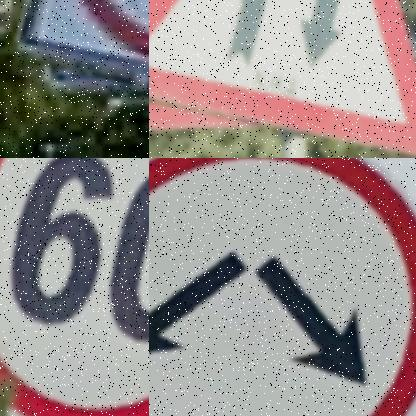No left turn: (26, 0, 149, 116)
Road Divides: (149, 158, 416, 416)
Speed Limit -60 kmph-: (0, 158, 149, 416)
U-Turn: (149, 0, 416, 158)
